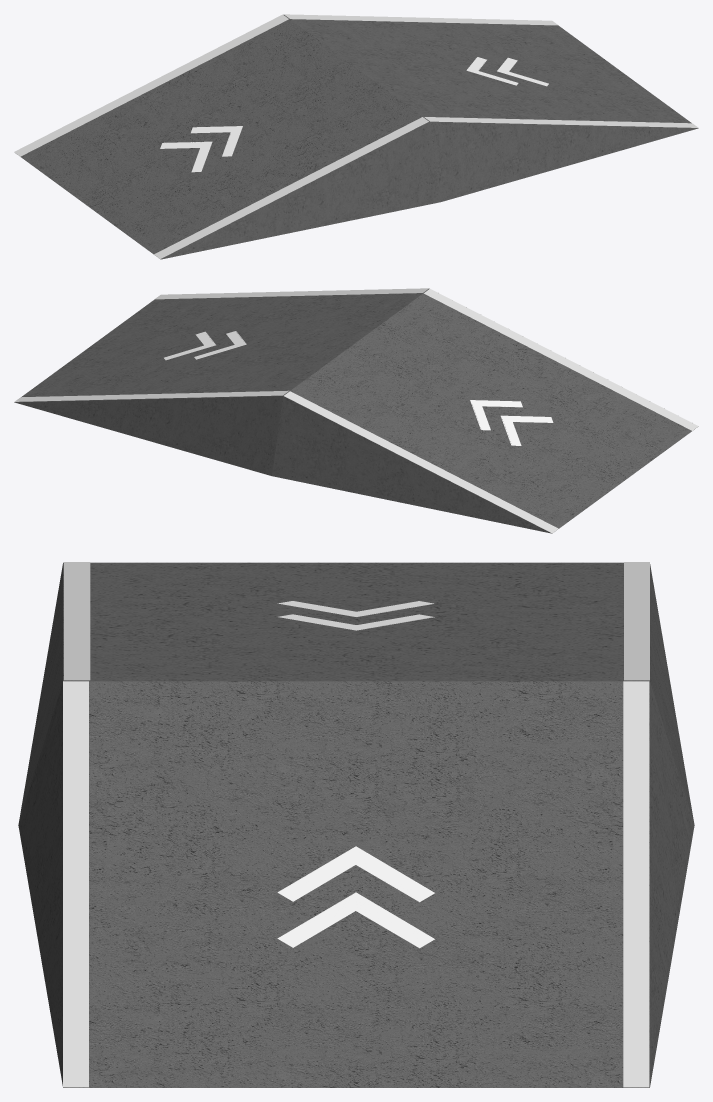
The model's file is Ramp 6.fbx.
3 renders of one model, top to bottom at view 1: azimuth 30°, elevation 25°; view 2: azimuth 150°, elevation 25°; view 3: azimuth 270°, elevation 25°, orthographic. The views are drawn at different scales.
Visible parts, largest first — view 1: Ramp, Decal, White arrow; view 2: Ramp, Decal, White arrow; view 3: Ramp, Decal, White arrow.
Boxes of the visible parts, left/top/right/bottom form: Ramp: left=15, top=14, right=698, bottom=259; Decal: left=14, top=14, right=698, bottom=258; White arrow: left=160, top=57, right=548, bottom=172; Ramp: left=14, top=288, right=698, bottom=533; Decal: left=14, top=288, right=698, bottom=533; White arrow: left=164, top=331, right=553, bottom=445; Ramp: left=18, top=562, right=694, bottom=1087; Decal: left=63, top=562, right=649, bottom=1087; White arrow: left=277, top=601, right=434, bottom=948.
Size of the model in its own units: 957 by 123 by 521.
